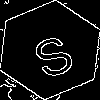S: (25, 25, 78, 81)
